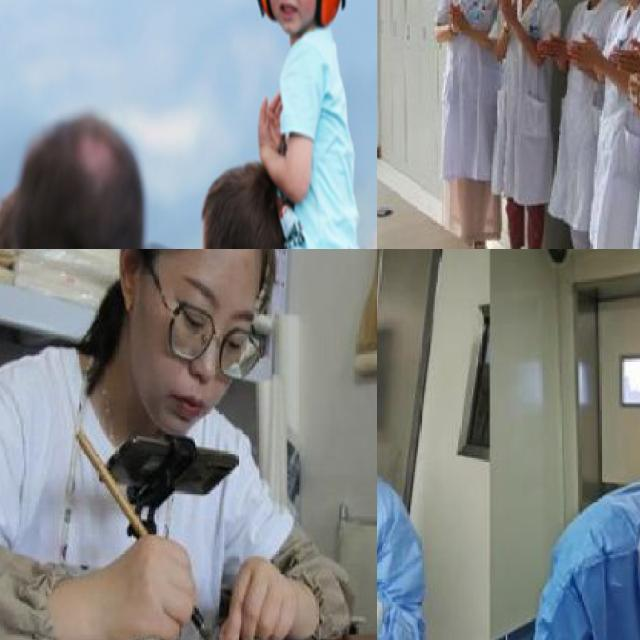Ear-protection: (245, 0, 349, 45)
No_Ear-Protection: (114, 249, 143, 312)
face_nomask: (127, 264, 260, 438)
glasses: (161, 296, 267, 381)
hand_noglove: (107, 534, 199, 640), (219, 551, 294, 640), (608, 38, 640, 76), (570, 32, 597, 66), (536, 34, 565, 61), (628, 73, 640, 129), (446, 0, 465, 32), (497, 0, 516, 29)
person: (0, 249, 377, 640), (218, 0, 353, 249), (476, 452, 640, 640), (428, 0, 511, 249), (493, 0, 564, 249), (560, 0, 606, 249), (603, 0, 640, 249)
